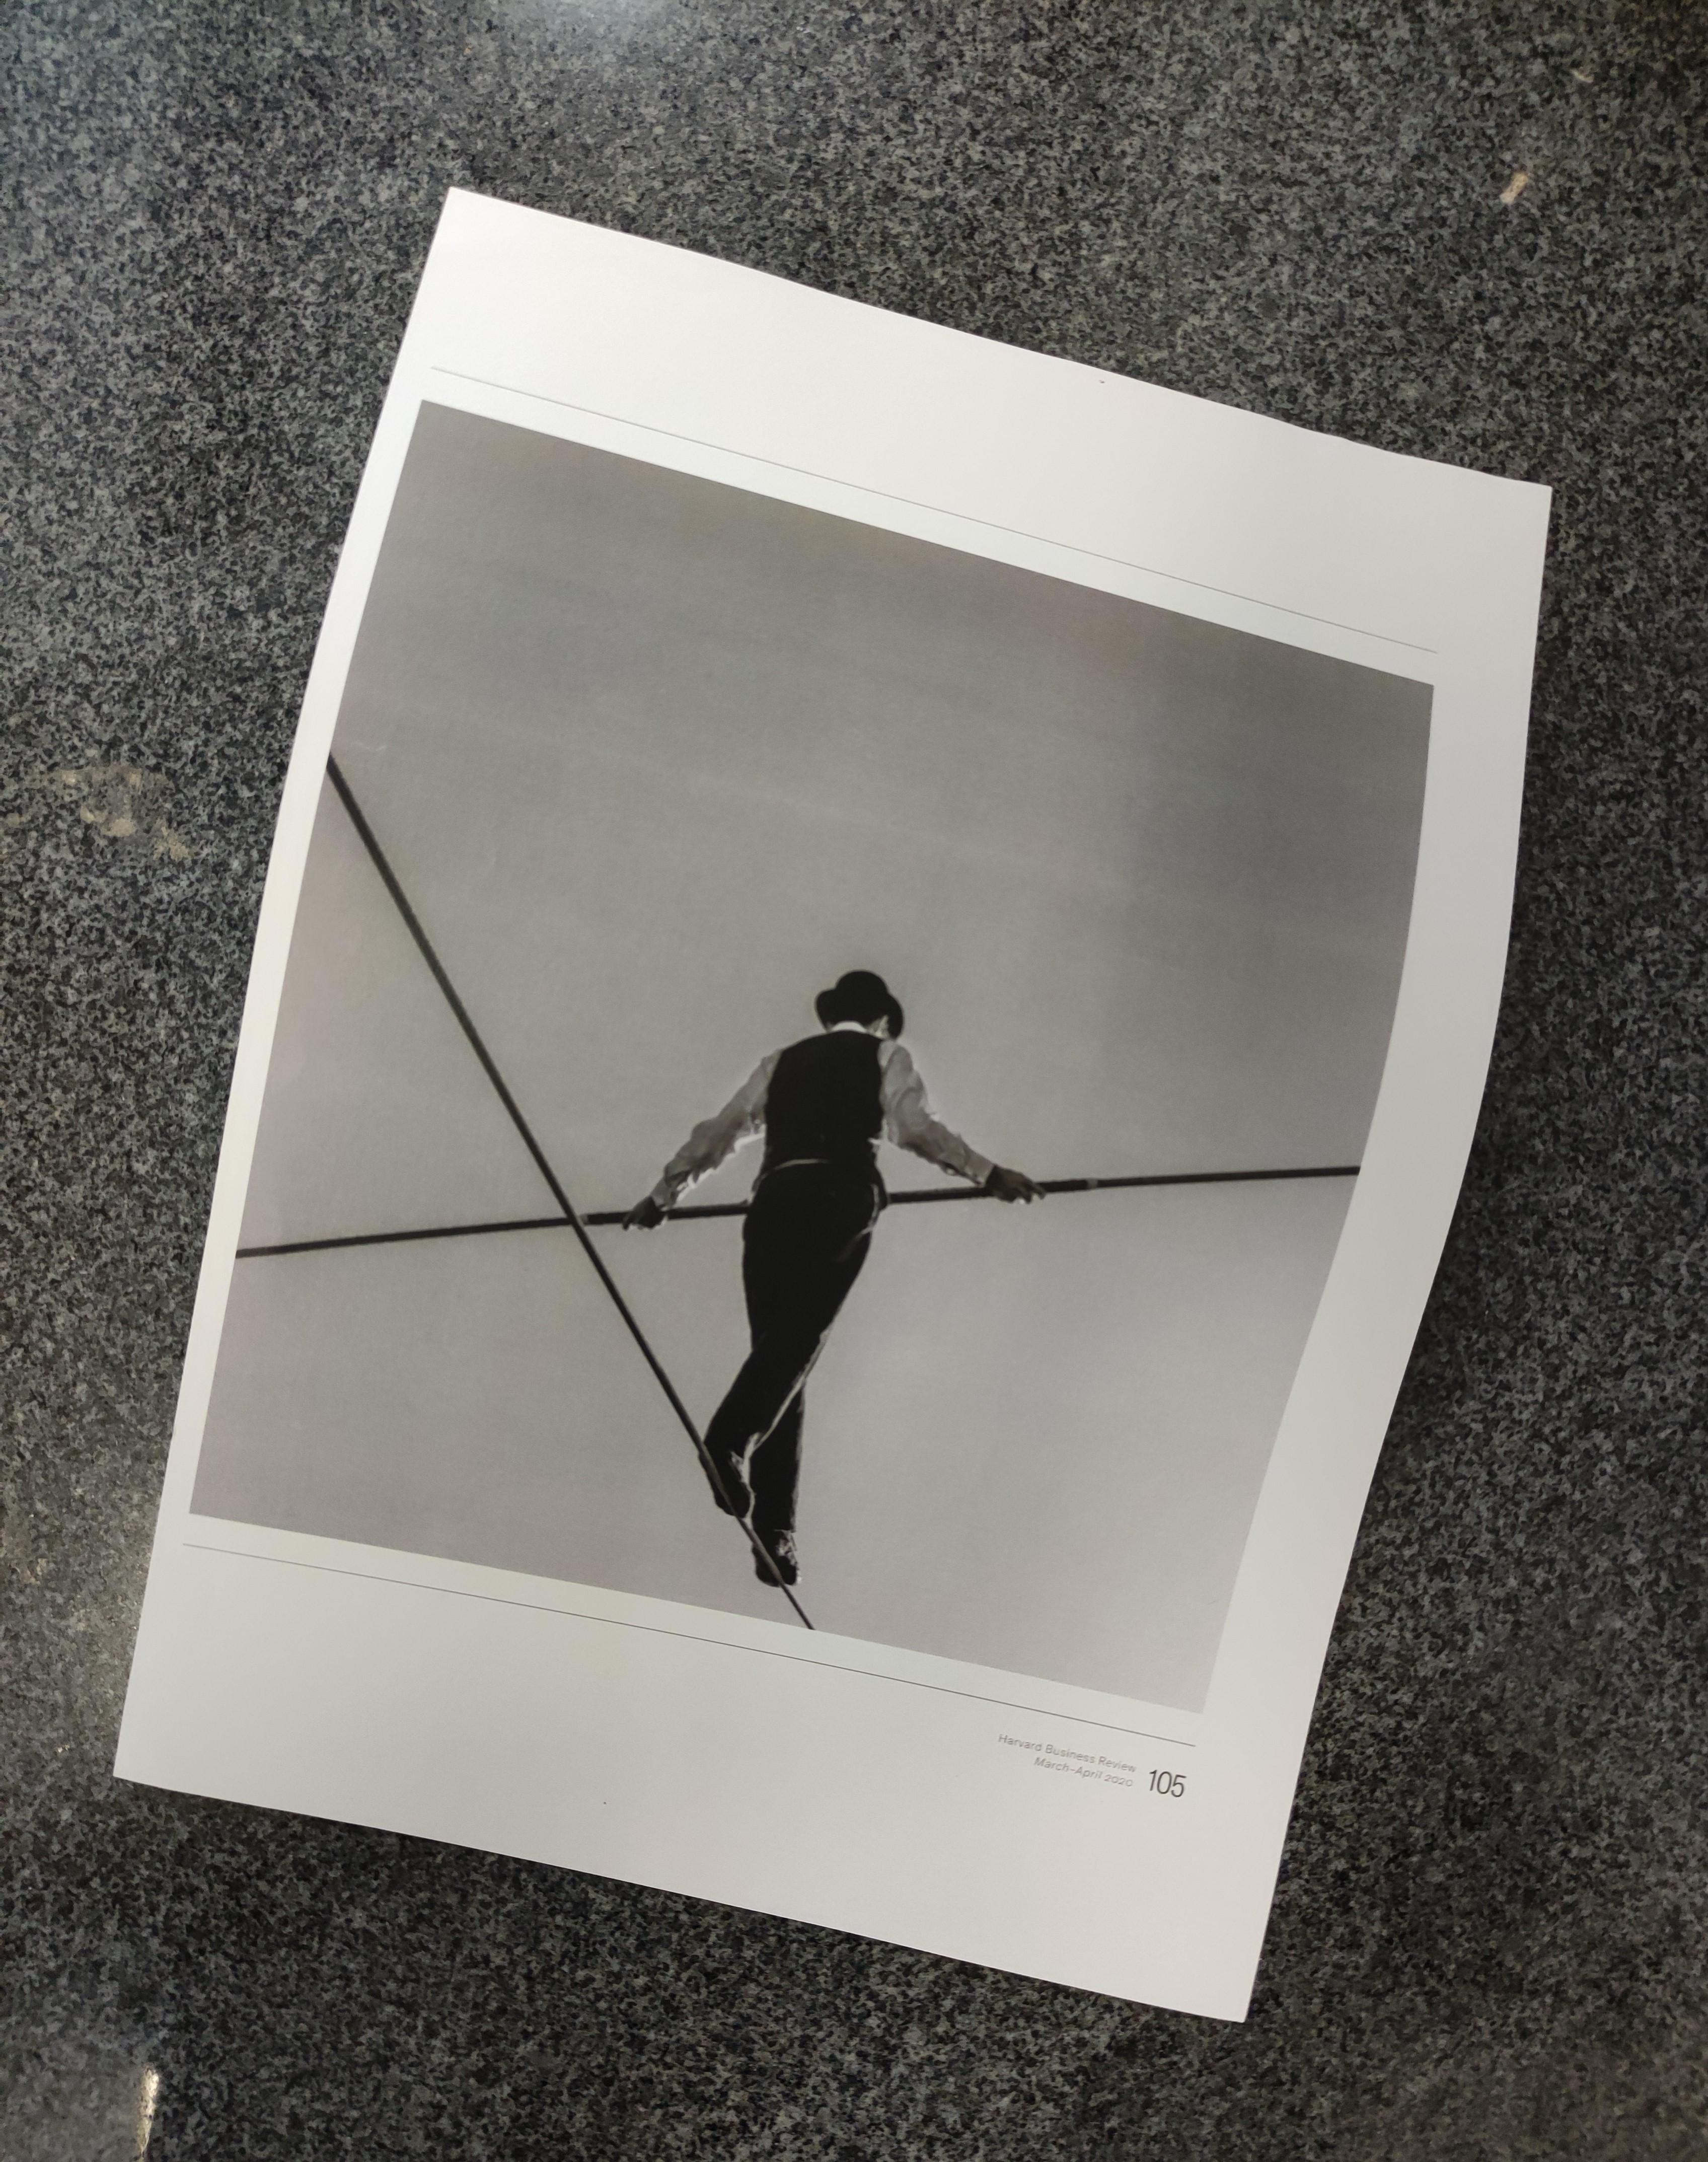paper: (58, 74, 1708, 2022)
